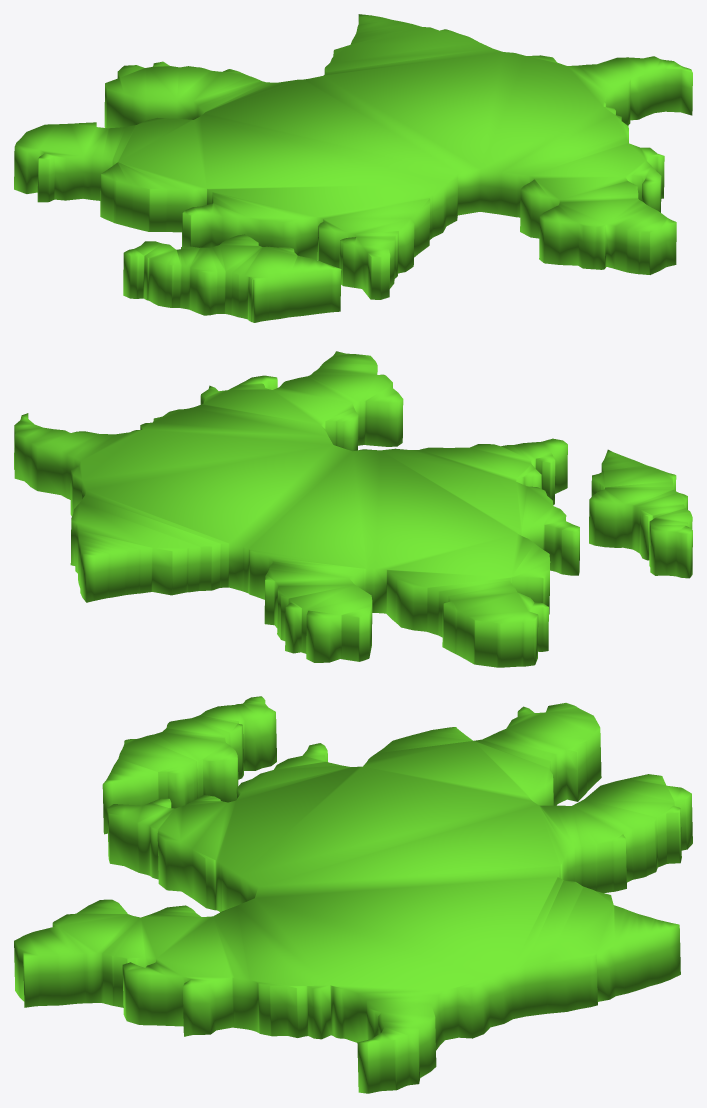
Rendered from azmap.glb.
3 views of the same model, one above another, from view 1: azimuth 30°, elevation 25°; view 2: azimuth 150°, elevation 25°; view 3: azimuth 270°, elevation 25° (orthographic). The views are drawn at different scales.
Visible parts, largest first — view 1: BézierCurve; view 2: BézierCurve; view 3: BézierCurve.
Boxes of the visible parts, bbox=[...] form: BézierCurve: bbox=[14, 14, 692, 322]; BézierCurve: bbox=[14, 351, 692, 667]; BézierCurve: bbox=[14, 696, 692, 1093].
Bounding box in the file's own units: 4.16 × 0.3525 × 3.42.
